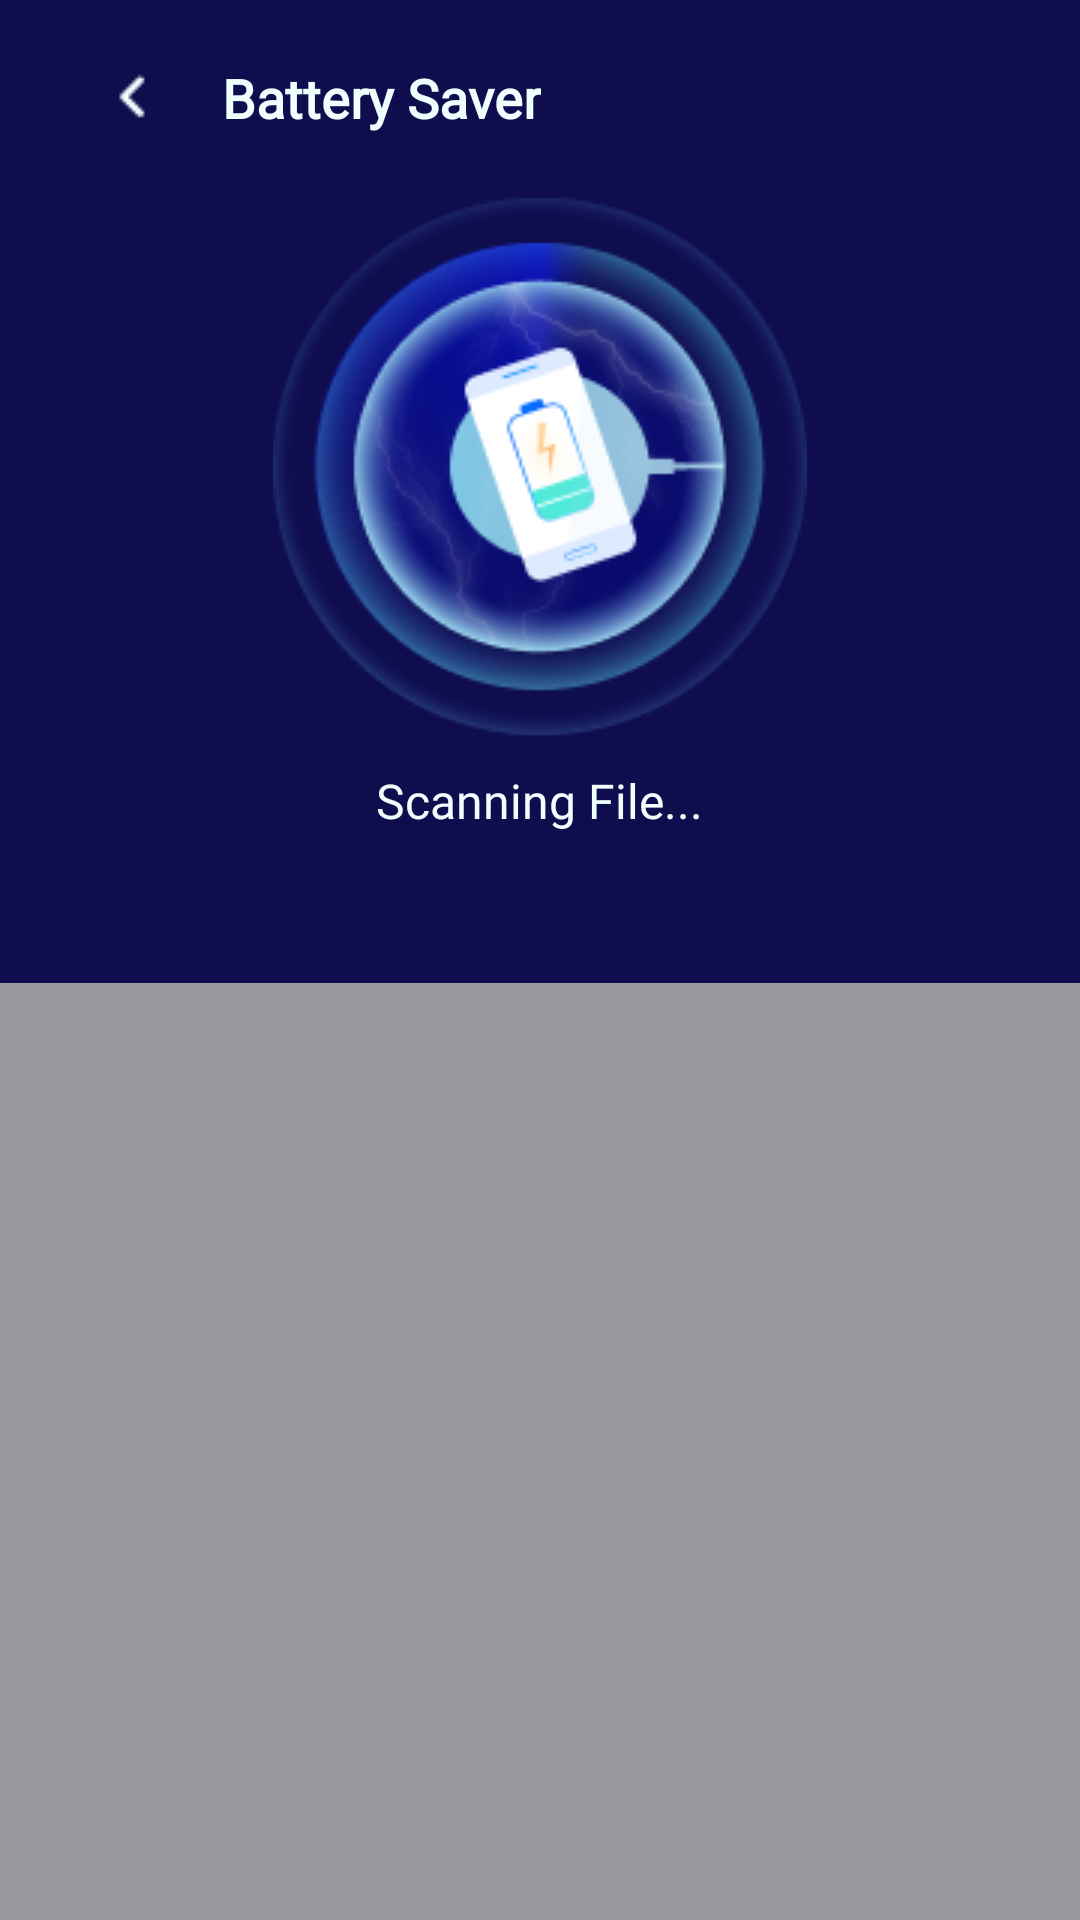

Icons on this 1080 × 1920 Android screen, each with the point to tap as point (x, y):
back arrow: point (132, 96)
